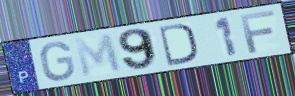1: (214, 15, 240, 57)
9: (118, 27, 160, 73)
D: (156, 21, 199, 68)
F: (238, 8, 277, 55)
G: (38, 40, 77, 82)
M: (72, 32, 125, 79)
